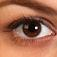eye: (23, 22, 42, 37)
